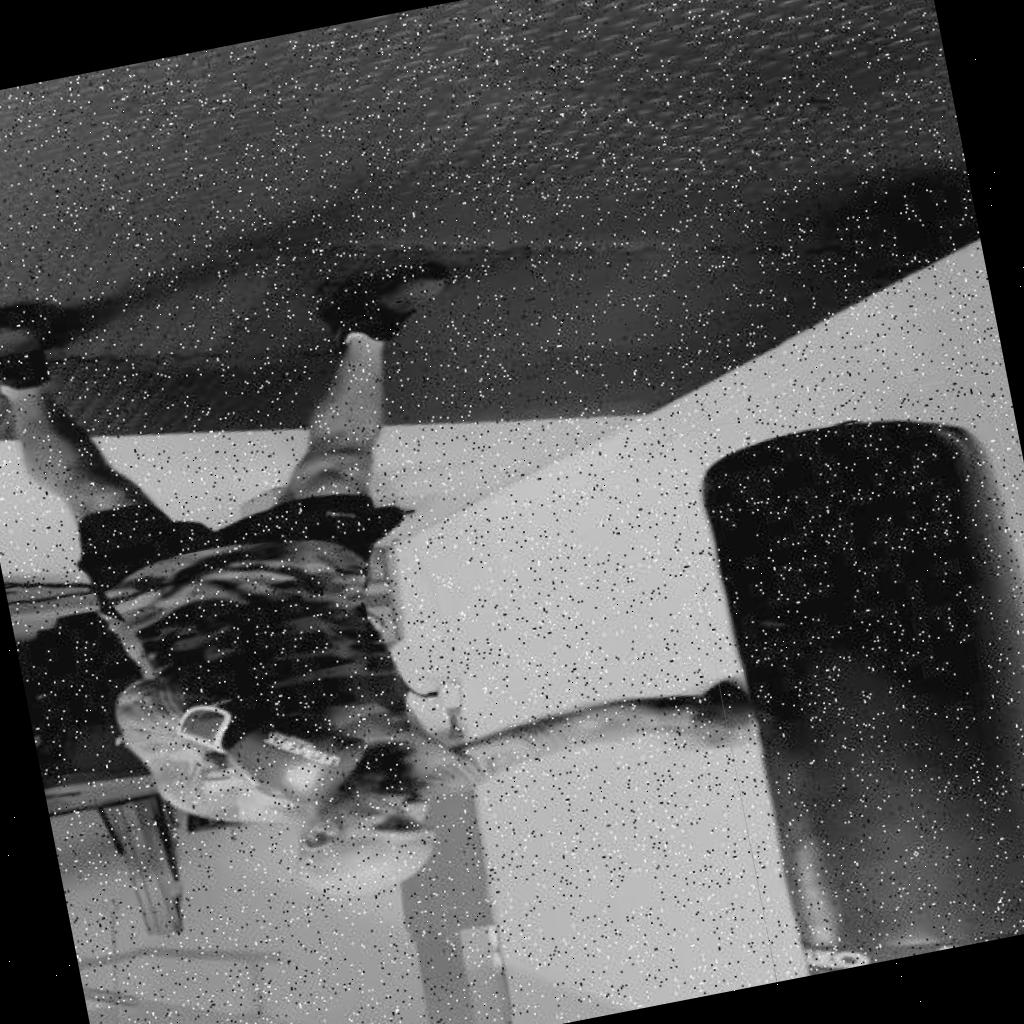bag: (671, 373, 1024, 982)
jab: (54, 493, 852, 1024)
